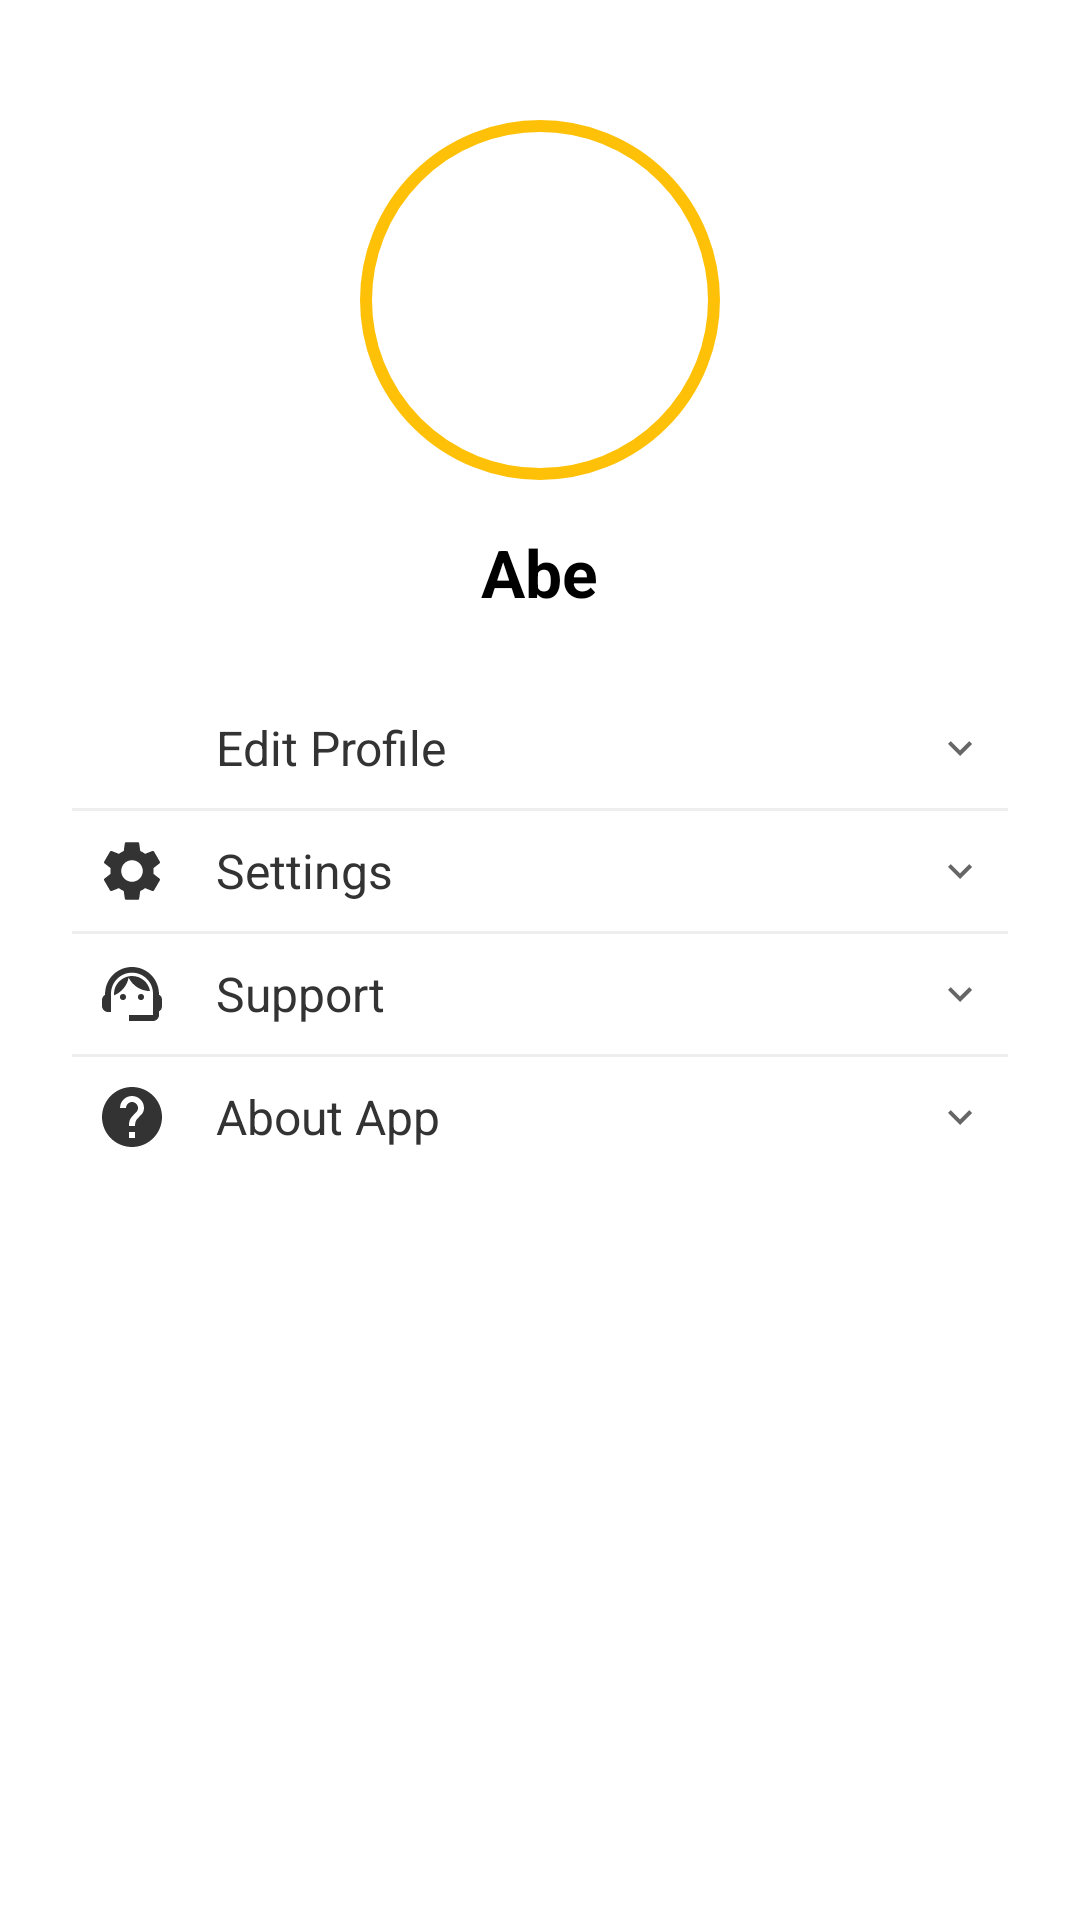

Locate icon controls on the screen. Image size 1080px×1920px, boxes as Rect(x1, y1, x2, y2).
Arrow: Rect(948, 741, 972, 756), Rect(948, 864, 972, 879), Rect(948, 987, 972, 1002), Rect(948, 1110, 972, 1125)
